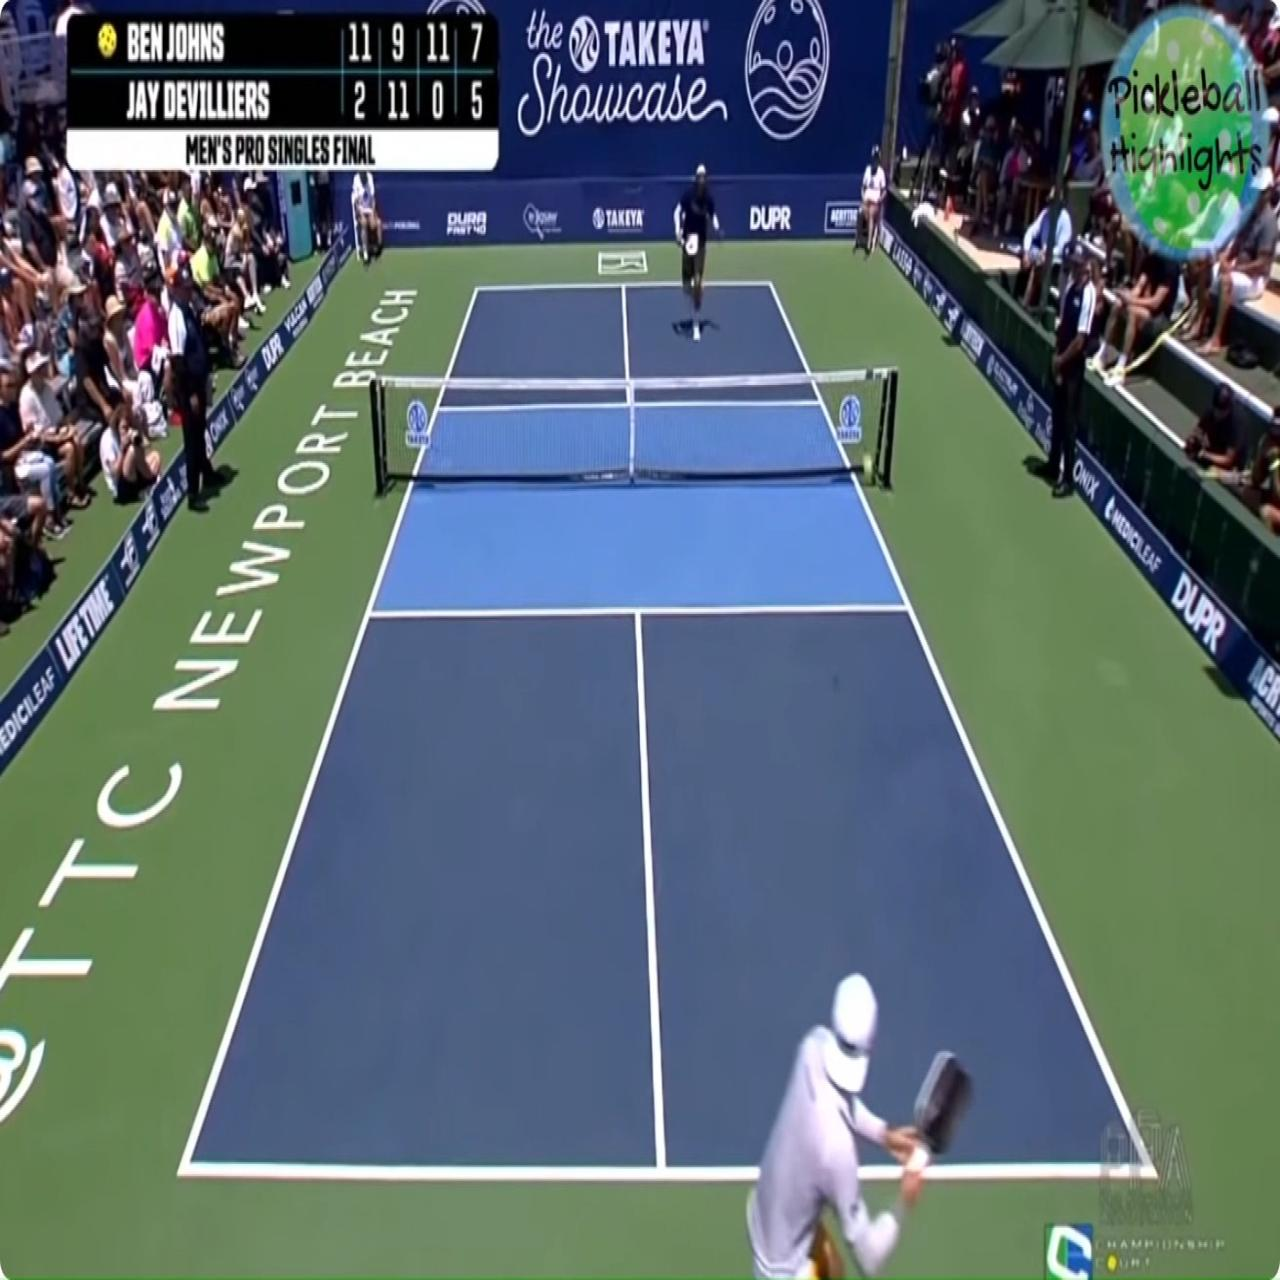pickleball: (862, 450, 873, 478)
